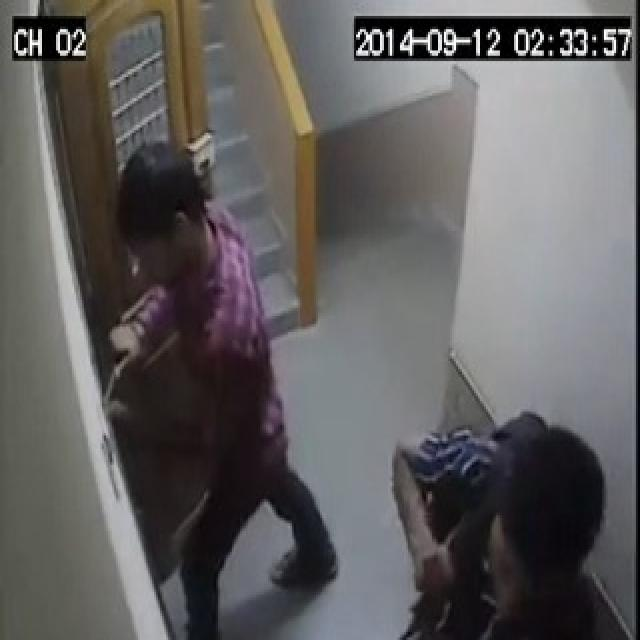thief: (64, 137, 611, 640)
